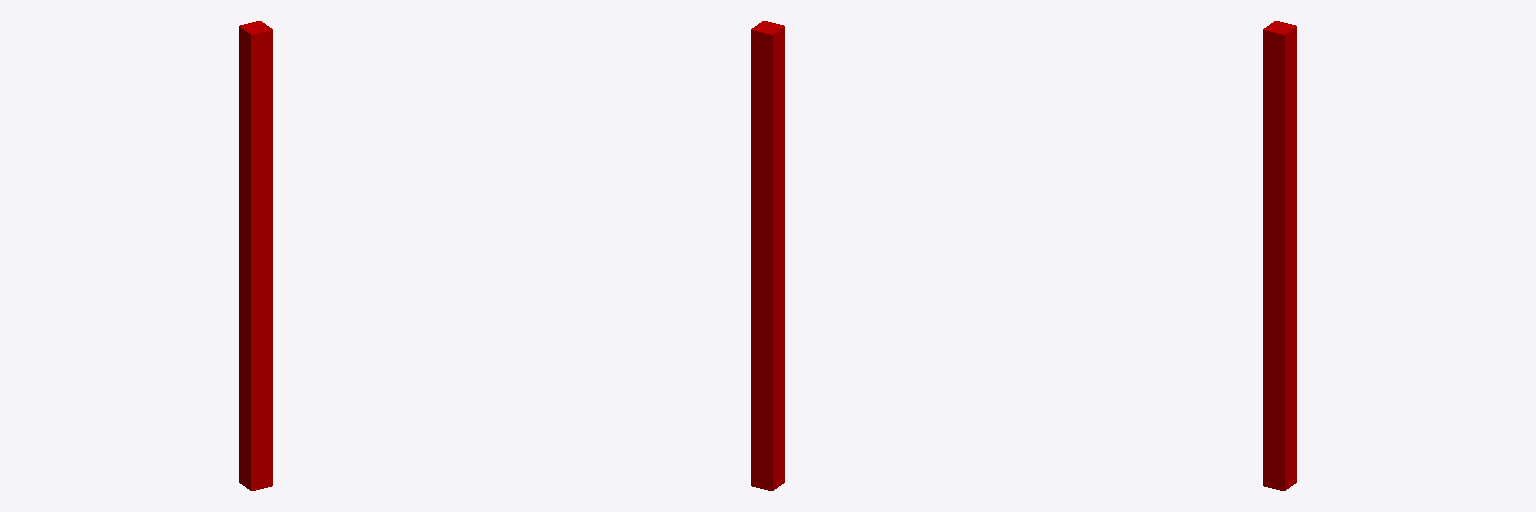
URDF robot description (twolink):
<?xml version="1.0" ?>
<!-- =================================================================================== -->
<!-- |    This document was autogenerated by xacro from twolink.xacro                  | -->
<!-- |    EDITING THIS FILE BY HAND IS NOT RECOMMENDED                                 | -->
<!-- =================================================================================== -->
<!-- UNIMATE Puma 560 Manipulator -->
<robot name="twolink" xmlns:xacro="http://www.ros.org/wiki/xacro">
  <!-- Some constants -->
  <!-- Some esthetic color definitions -->
  <material name="black">
    <color rgba="0.0 0.0 0.0 1.0"/>
  </material>
  <material name="blue">
    <color rgba="0.0 0.0 0.8 1.0"/>
  </material>
  <material name="green">
    <color rgba="0.0 0.8 0.0 1.0"/>
  </material>
  <material name="grey">
    <color rgba="0.2 0.2 0.2 1.0"/>
  </material>
  <material name="red">
    <color rgba="0.8 0.0 0.0 1.0"/>
  </material>
  <material name="red_transparent">
    <color rgba="0.8 0.0 0.0 0.5"/>
  </material>
  <material name="white">
    <color rgba="1.0 1.0 1.0 1.0"/>
  </material>
  <material name="white_transparent">
    <color rgba="1.0 1.0 1.0 0.5"/>
  </material>
  <material name="orange">
    <color rgba="1.0 0.423529411765 0.0392156862745 1.0"/>
  </material>
  <material name="brown">
    <color rgba="0.870588235294 0.811764705882 0.764705882353 1.0"/>
  </material>
  <material name="Metal">
    <color rgba="0.827450980392 0.827450980392 0.827450980392 1.0"/>
  </material>
  <material name="wood">
    <color rgba="0.803921568627 0.521568627451 0.247058823529 1.0"/>
  </material>
  <!-- Some xacro macro definitions -->
  <!-- Create inertia matrix from parameters for general parts :
  mass[kg] and center of mass[m] 
  inertia_diagonal defined as {Ixx Iyy Izz}[kg.m^2]
  inertia_off_diagonal defined as {Ixy Ixz Iyz}[kg.m^2]
  -->
  <!-- Create inertia matrix from parameters for homogeneous parts : 
  density[kg/m^3], volume[m^3] and center of mass[m]
  inertia_diagonal defined as {Ixx Iyy Izz}[m^4]
  inertia_off_diagonal defined as {Ixy Ixz Iyz}[m^4]
  -->
  <!-- Import Gazebo components for now colors and control plugin -->
  <!-- ros_control plugin -->
  <gazebo>
    <plugin filename="libgazebo_ros_control.so" name="gazebo_ros_control">
      <robotNamespace>/twolink</robotNamespace>
      <robotSimType>gazebo_ros_control/DefaultRobotHWSim</robotSimType>
    </plugin>
  </gazebo>
  <!-- Link 1 -->
  <gazebo reference="link_1">
    <material>Gazebo/Red</material>
    <selfCollide>true</selfCollide>
    <static>false</static>
    <turnGravityOff>false</turnGravityOff>
  </gazebo>
  <!-- Link 2 -->
  <gazebo reference="link_2">
    <material>Gazebo/Red</material>
    <selfCollide>true</selfCollide>
    <static>false</static>
    <turnGravityOff>false</turnGravityOff>
  </gazebo>
  <!-- Link definitions -->
  <link name="world">
    <origin rpy="0 0 0" xyz="0 0 0"/>
  </link>
  <link name="link_1">
    <visual>
      <origin rpy="0 0 0" xyz="0 0 -0.25"/>
      <geometry>
        <!-- Beam dimensions (width x width x length) -->
        <box size="0.05 0.05 0.5"/>
      </geometry>
      <material name="red_transparent"/>
    </visual>
    <inertial>
      <origin rpy="0 0 0" xyz="0 0 -0.25"/>
      <mass value="9.375"/>
      <inertia ixx="0.197265625" ixy="0.0" ixz="0.0" iyy="0.197265625" iyz="0.0" izz="0.00390625"/>
    </inertial>
  </link>
  <link name="link_2">
    <visual>
      <origin rpy="0 0 0" xyz="0 0 -0.25"/>
      <geometry>
        <!-- Beam dimensions (width x width x length) -->
        <box size="0.05 0.05 0.5"/>
      </geometry>
      <material name="red_transparent"/>
    </visual>
    <inertial>
      <origin rpy="0 0 0" xyz="0 0 -0.25"/>
      <mass value="9.375"/>
      <inertia ixx="0.197265625" ixy="0.0" ixz="0.0" iyy="0.197265625" iyz="0.0" izz="0.00390625"/>
    </inertial>
  </link>
  <!-- Joint definitions -->
  <joint name="joint_1" type="continuous">
    <parent link="world"/>
    <child link="link_1"/>
    <origin rpy="0 0 0" xyz="0 0 1.0"/>
    <axis xyz="1 0 0"/>
    <dynamics damping="50.0"/>
    <dynamics friction="10.0"/>
    <dynamics spring_reference="0.0"/>
    <dynamics spring_stiffness="10.0"/>
  </joint>
  <joint name="joint_2" type="continuous">
    <parent link="link_1"/>
    <child link="link_2"/>
    <origin rpy="0 0 0" xyz="0 0 -0.5"/>
    <axis xyz="1 0 0"/>
    <dynamics damping="50.0" spring_stiffness="200.0"/>
  </joint>
  <transmission name="joint_1_transmission">
    <type>transmission_interface/SimpleTransmission</type>
    <joint name="joint_1">
      <hardwareInterface>EffortJointInterface</hardwareInterface>
    </joint>
    <actuator name="joint_1_actuator">
      <hardwareInterface>EffortJointInterface</hardwareInterface>
      <mechanicalReduction>1</mechanicalReduction>
    </actuator>
  </transmission>
  <transmission name="joint_2_transmission">
    <type>transmission_interface/SimpleTransmission</type>
    <joint name="joint_2">
      <hardwareInterface>EffortJointInterface</hardwareInterface>
    </joint>
    <actuator name="joint_2_actuator">
      <hardwareInterface>EffortJointInterface</hardwareInterface>
      <mechanicalReduction>1</mechanicalReduction>
    </actuator>
  </transmission>
</robot>

--- Render facts (derived) ---
3 views of the same robot in one strip: view 1: azimuth 30°, elevation 25°; view 2: azimuth 150°, elevation 25°; view 3: azimuth 330°, elevation 25° (orthographic).
Model twolink with 3 links and 2 joints (2 continuous), rooted at world, posed all joints at 0.
Visible links, largest first — view 1: link_1, link_2; view 2: link_1, link_2; view 3: link_1, link_2.
Boxes of the visible links, x1,y1,x2,y2 form: link_1: [239, 21, 272, 262]; link_2: [239, 255, 272, 490]; link_1: [751, 21, 784, 262]; link_2: [751, 255, 784, 490]; link_1: [1263, 21, 1296, 262]; link_2: [1263, 255, 1296, 490].
Bounding box of the posed robot: 0.05 × 0.05 × 1 m (x, y, z).
Geometry: primitives only (box / cylinder / sphere), no mesh files.